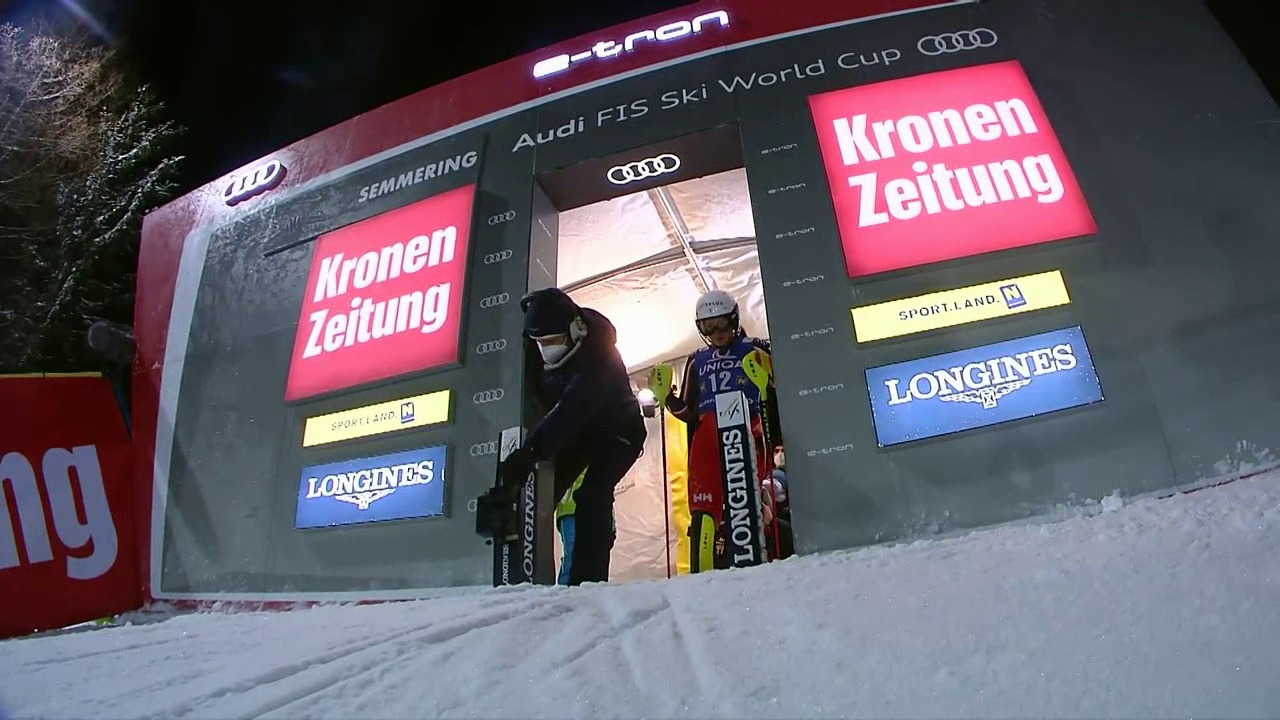audi: (909, 23, 1007, 60), (593, 152, 694, 187), (470, 384, 510, 408), (482, 247, 522, 270), (473, 337, 511, 360), (486, 208, 521, 230), (478, 291, 513, 313)
etron: (548, 1, 718, 99), (756, 140, 795, 158)
kronenzeitung: (846, 87, 1055, 234), (2, 412, 101, 624), (313, 221, 445, 369)
longines: (878, 336, 1094, 434), (298, 454, 445, 523), (722, 422, 763, 567), (510, 470, 541, 594)
